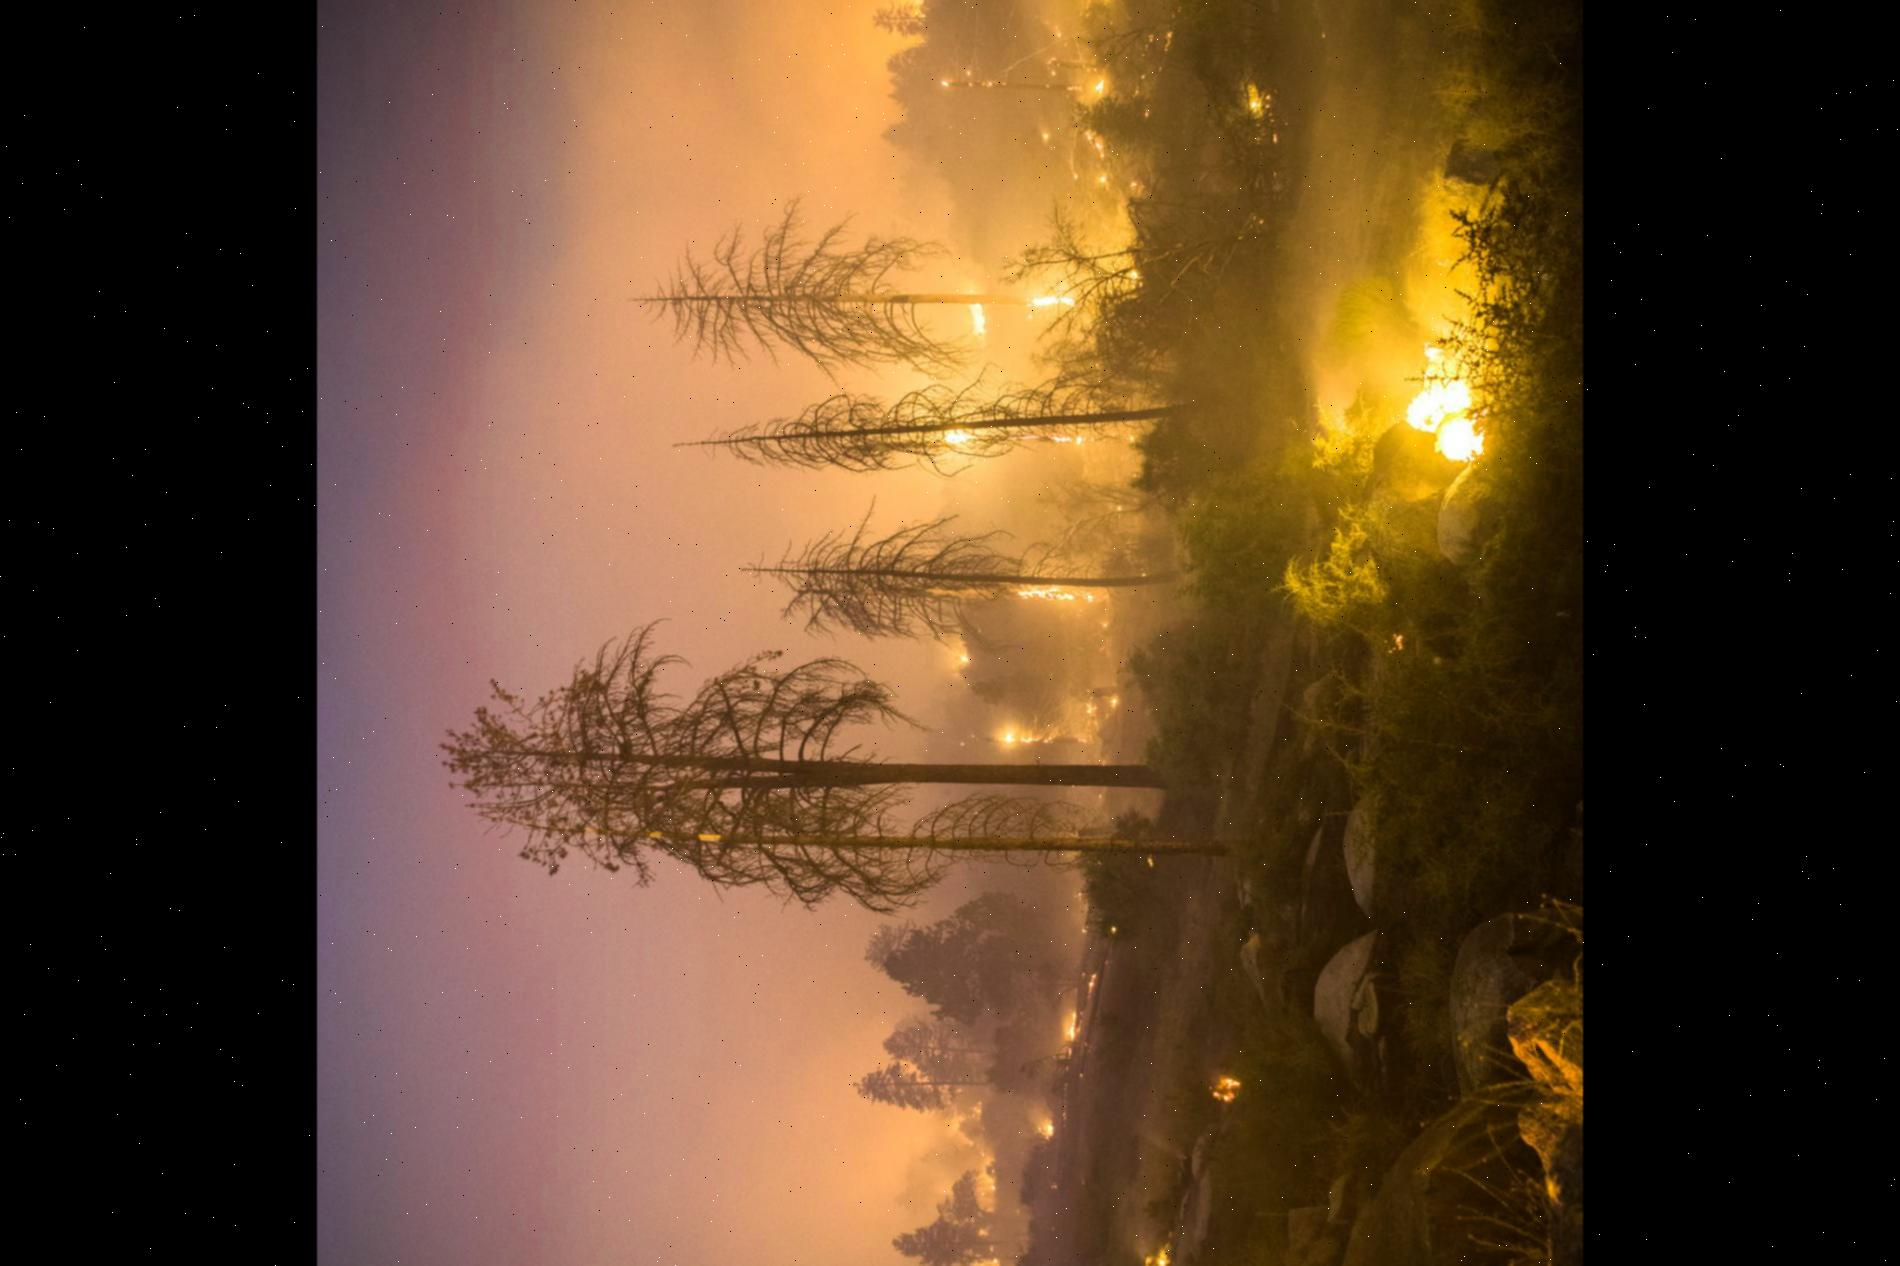fire: (841, 0, 1561, 795), (841, 959, 1295, 1266)
